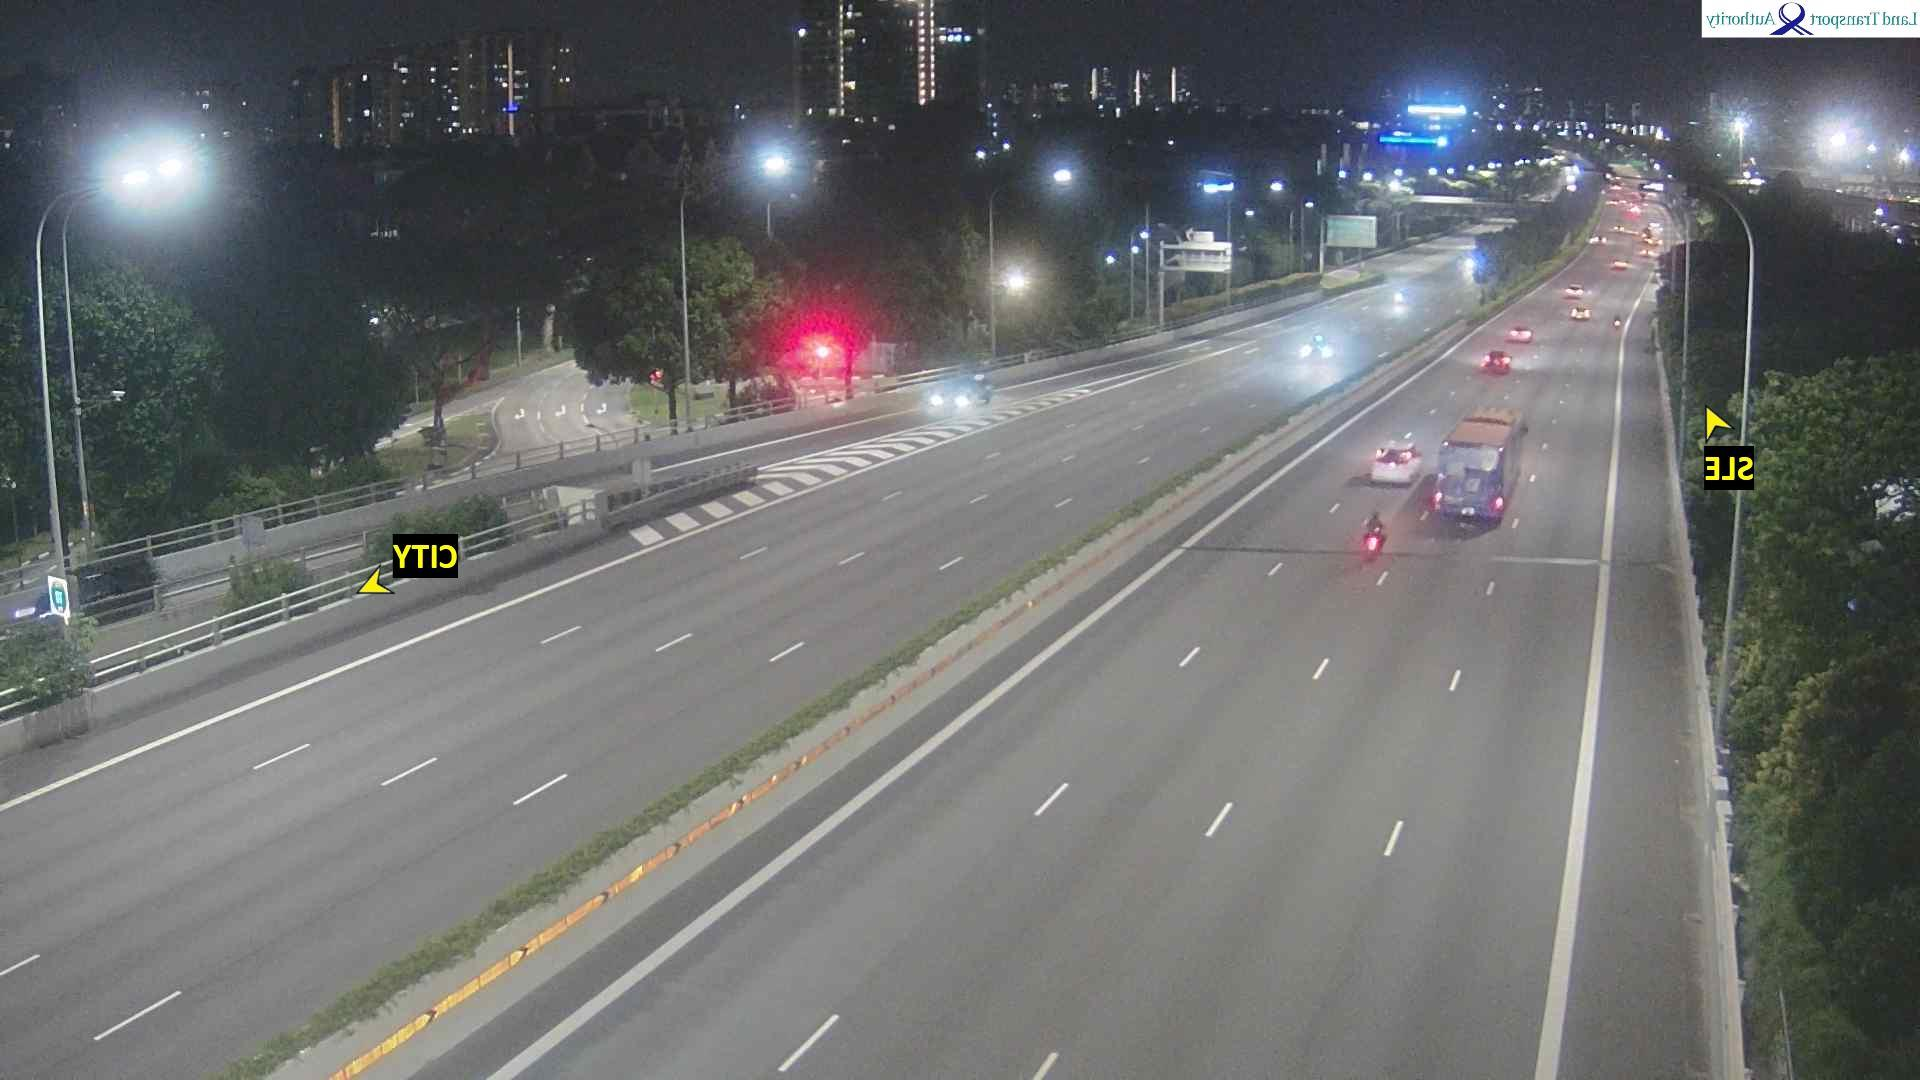incoming: (928, 376, 977, 410)
